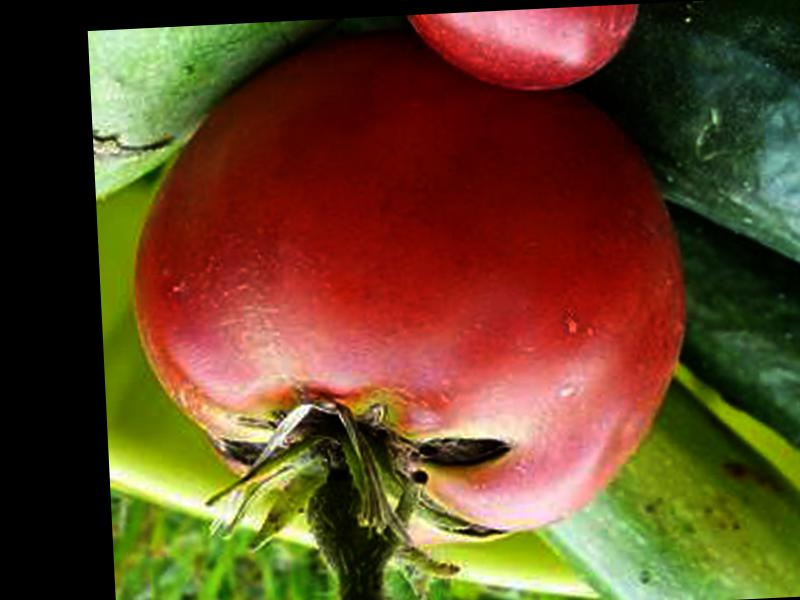Tomato: (119, 15, 692, 551)
